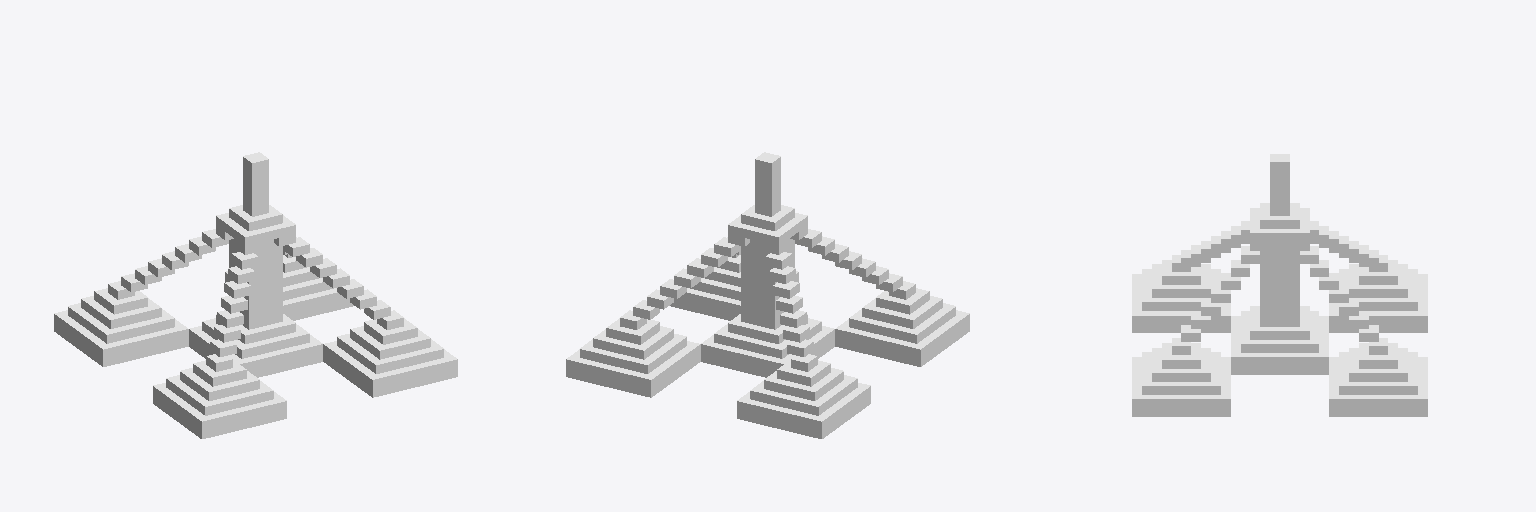
File: tower_base.obj
The picture shows the model from 3 angles: view 1: azimuth 30°, elevation 25°; view 2: azimuth 150°, elevation 25°; view 3: azimuth 270°, elevation 25°; orthographic projection.
Bounding box in the file's own units: 30 × 22 × 30.